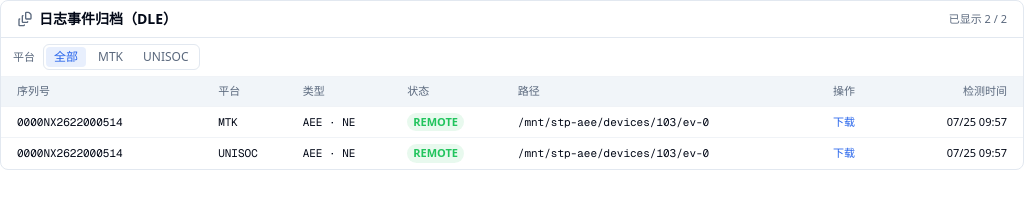
LogEventsCard (#529) › #2184: 筛到 0 条与「本来就没有」文案可区分
Expected: the element with test id "log-events-platform-filter" is shown, x1=1 y1=38 x2=1023 y2=77
Click the button "UNISOC" at (166, 57), box x1=135 y1=47 x2=196 y2=67
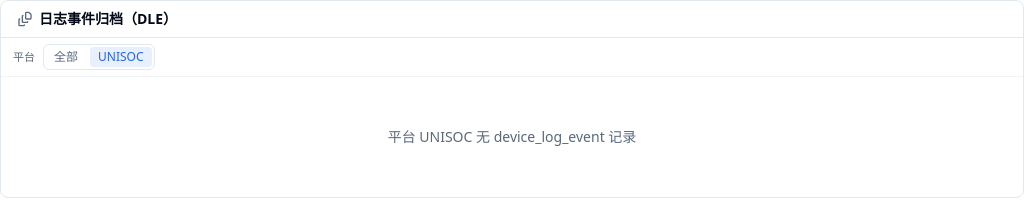
Result: the text "平台 UNISOC 无 device_log_event 记录" is shown at x1=388 y1=127 x2=636 y2=146
